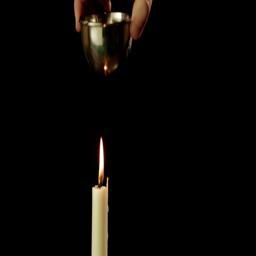fire: (99, 137, 105, 184)
